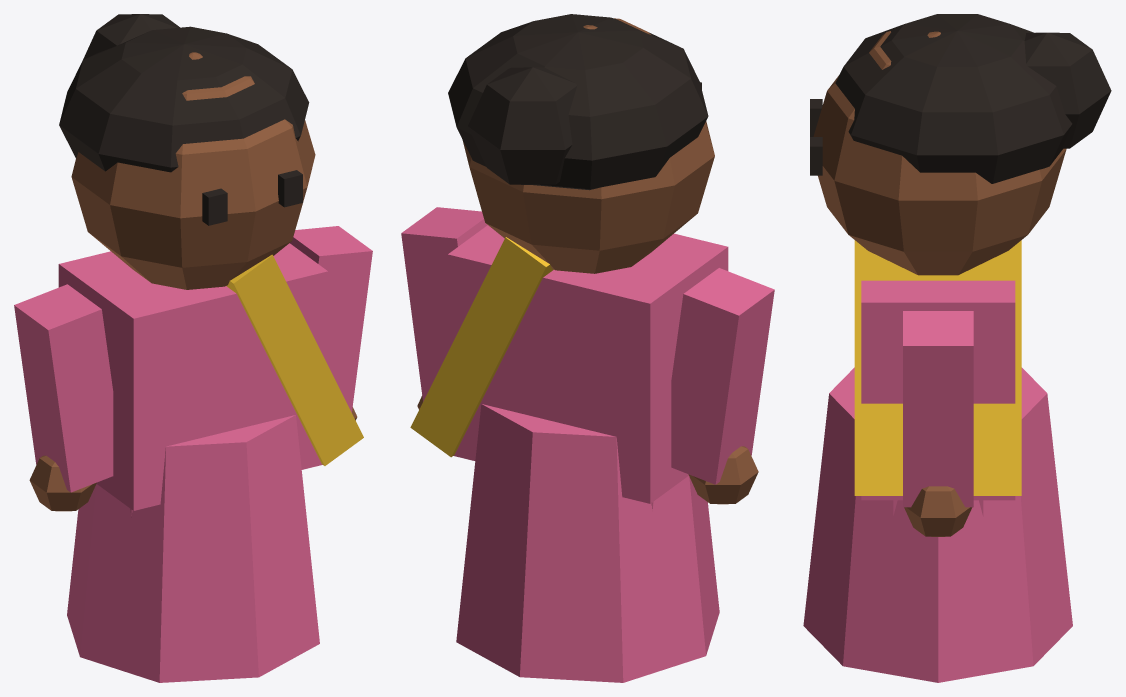
The model's file is customer_b.glb.
3 views of the same model, side by side, from view 1: azimuth 30°, elevation 25°; view 2: azimuth 150°, elevation 25°; view 3: azimuth 270°, elevation 25° (orthographic). The views are drawn at different scales.
Parts seen in each view (by area): view 1: customer_b; view 2: customer_b; view 3: customer_b.
Part boxes in pixels (bbox=[...]): customer_b: bbox=[14, 14, 372, 682]; customer_b: bbox=[401, 14, 774, 682]; customer_b: bbox=[803, 14, 1111, 682].
Size of the model in its own units: 0.6008 by 1.02 by 0.48.
Materials: 1 (1 with a texture image).
